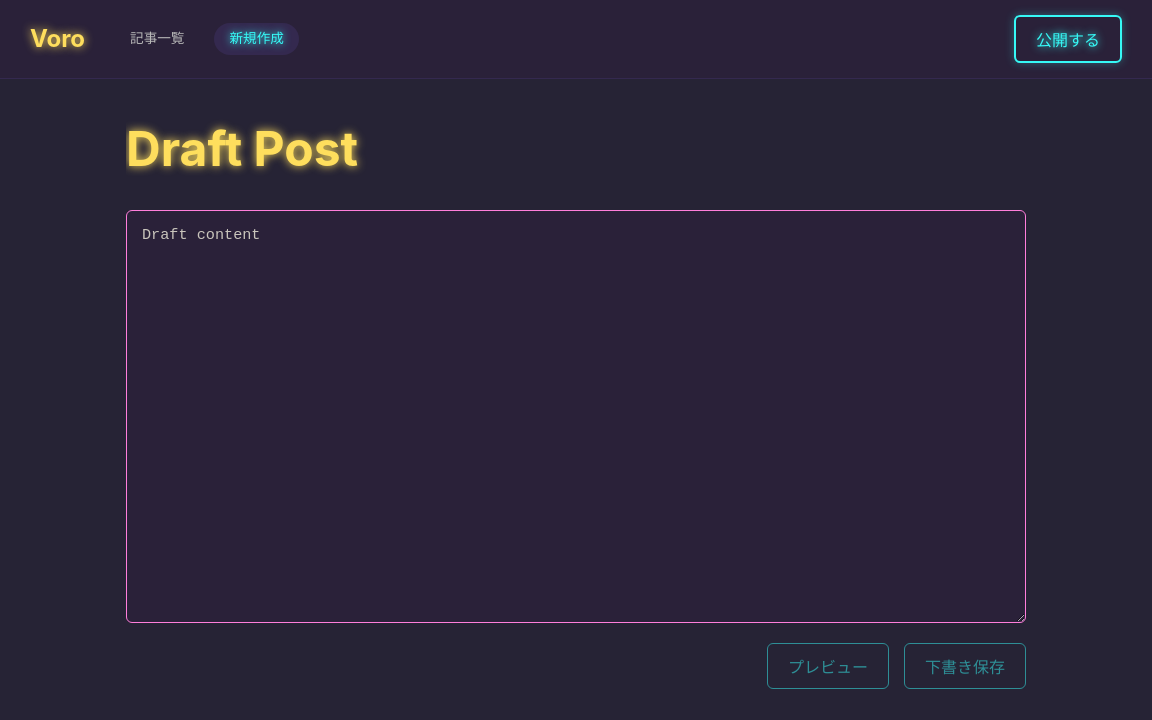
PostEditorPage - Create Mode › publishes a draft post when publish button is clicked in edit mode
This screenshot has width=1152, height=720.
Check: the field showing "Draft Post" is shown, box [126, 109, 1026, 190]
Click the button "公開する": (1068, 39) [1014, 15, 1122, 63]
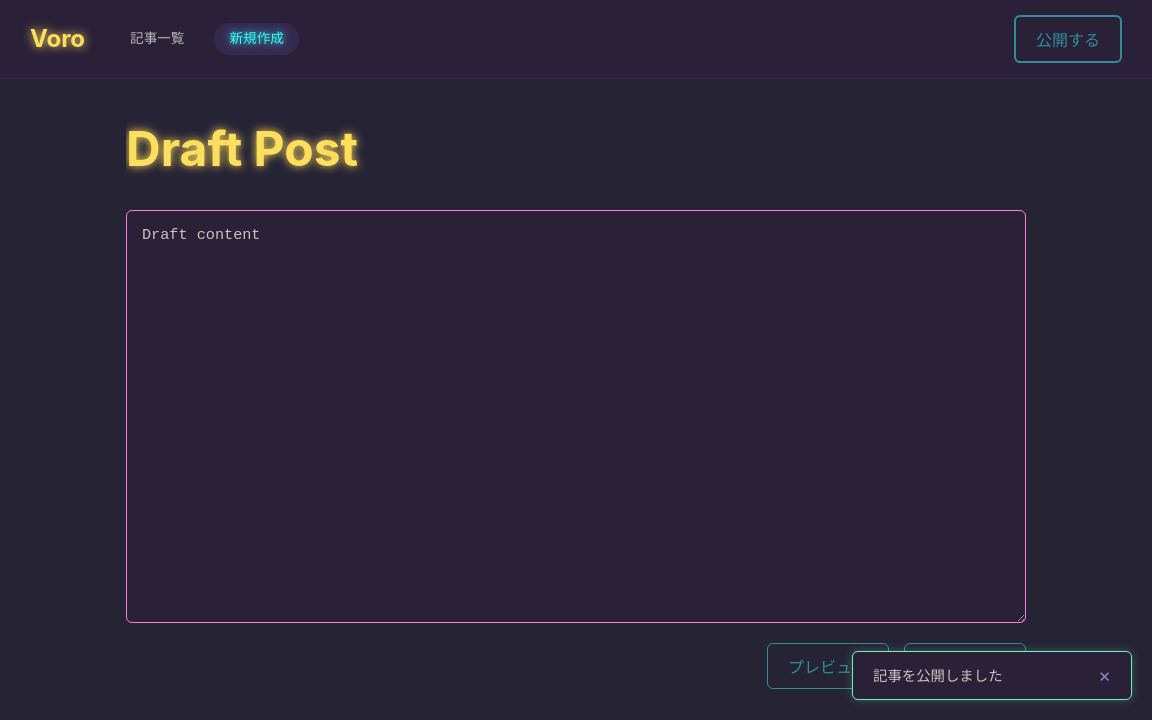
Check: the text "記事を公開しました" is shown, box [873, 667, 1002, 684]
